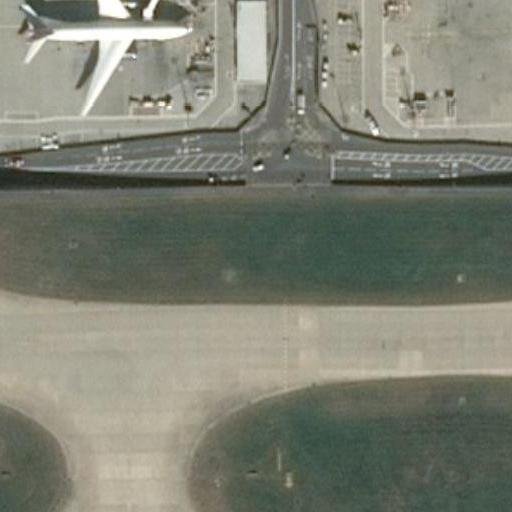Aircraft: (13, 0, 199, 114)
